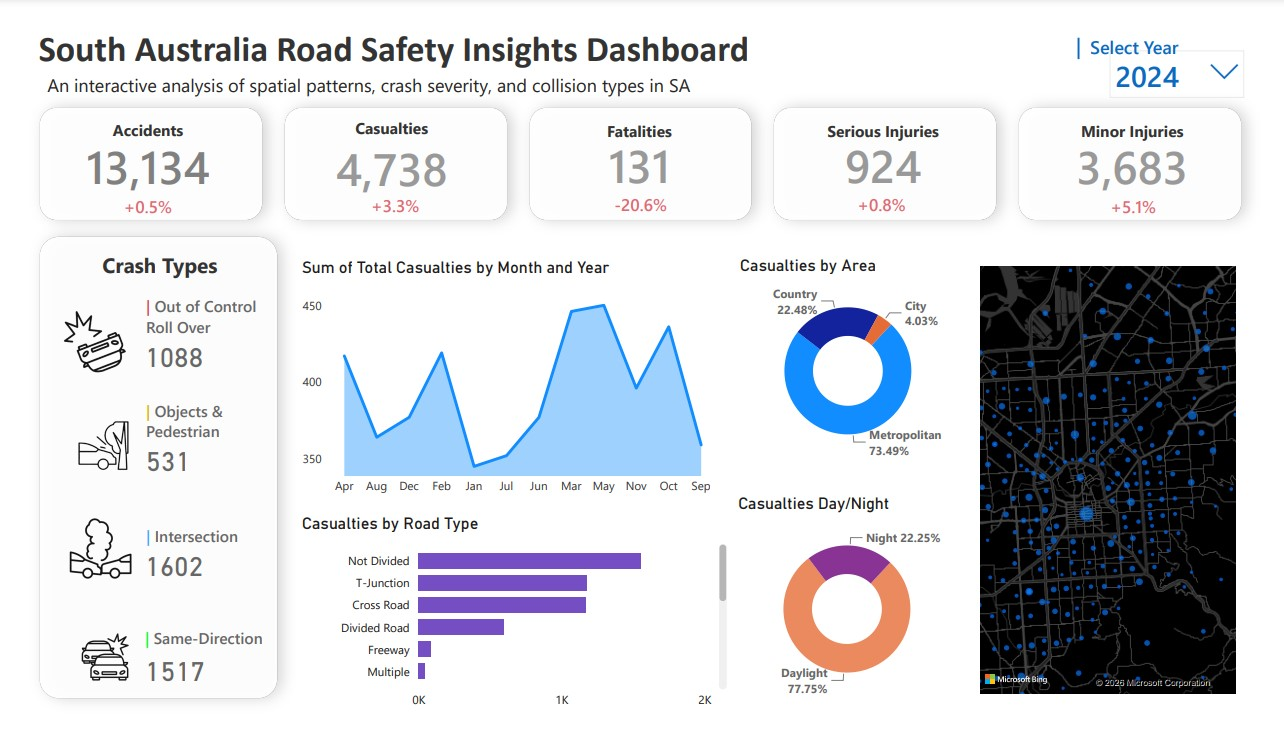

The dashboard page shown, as its layout file describes it:
{"tool":"powerbi","page":{"name":"Page 1","canvas":[1280,720],"ordinal":0},"visuals":[{"type":"group","id":"g1","title":"Group 2","box":[286.1,100.1,195,119.4],"z":0,"group":"g3"},{"type":"group","id":"g2","title":"Group 3","box":[286.1,100.1,195,119.4],"z":0,"group":"g1"},{"type":"cardVisual","title":"Casualties","fields":{"Data":["bb05bb0d-f9a4-4638-8992-81d5fb9.CY Casualties"]},"box":[286.1,100.1,195,87.5],"z":0,"group":"g2"},{"type":"cardVisual","title":"Accidents","fields":{"Data":["bb05bb0d-f9a4-4638-8992-81d5fb9.Total CY Accidents"]},"box":[35.2,101.9,194,84],"z":0,"group":"g4"},{"type":"cardVisual","title":" Minor Injuries","fields":{"Data":["bb05bb0d-f9a4-4638-8992-81d5fb9.CY Casualties"]},"box":[1050,102.5,195.3,82.7],"z":0,"group":"g7"},{"type":"cardVisual","title":" Serious Injuries","fields":{"Data":["bb05bb0d-f9a4-4638-8992-81d5fb9.CY Casualties"]},"box":[792,102.9,197.3,82],"z":0,"group":"g6"},{"type":"cardVisual","title":"Fatalities","fields":{"Data":["bb05bb0d-f9a4-4638-8992-81d5fb9.CY Casualties"]},"box":[541.4,103.1,196.2,81.5],"z":0,"group":"g5"},{"type":"shape","title":"LEFT Bottom","box":[0,202.9,285.7,515.7],"z":0},{"type":"cardVisual","fields":{"Data":["bb05bb0d-f9a4-4638-8992-81d5fb9.YoY Casualties"]},"box":[835.4,156,131.5,65.1],"z":1000,"group":"g6"},{"type":"cardVisual","fields":{"Data":["bb05bb0d-f9a4-4638-8992-81d5fb9.YoY Casualties"]},"box":[584.8,156.2,130.3,63.9],"z":1000,"group":"g5"},{"type":"cardVisual","fields":{"Data":["bb05bb0d-f9a4-4638-8992-81d5fb9.YoY Casualties"]},"box":[333.2,159.2,131.5,60.3],"z":1000,"group":"g2"},{"type":"cardVisual","fields":{"Data":["bb05bb0d-f9a4-4638-8992-81d5fb9.YoY Casualties"]},"box":[1095.8,159.2,131.5,60.3],"z":1000,"group":"g7"},{"type":"cardVisual","fields":{"Data":["bb05bb0d-f9a4-4638-8992-81d5fb9.YoY Accidents"]},"box":[78.6,159.8,131.5,61.5],"z":1000,"group":"g4"},{"type":"cardVisual","title":"vasdv","fields":{"Data":["bb05bb0d-f9a4-4638-8992-81d5fb9.CY Casualties"],"Rows":["bb05bb0d-f9a4-4638-8992-81d5fb9.Crash Type (groups)"]},"box":[97.1,267.1,378.6,434.3],"z":1000},{"type":"shape","title":"Card 1","box":[0,70,270.2,156.8],"z":2000},{"type":"shape","title":"Card 3","box":[504.9,70,270.2,156.8],"z":3000},{"type":"image","box":[24.3,273.4,105.7,117.1],"z":3000,"group":"g8"},{"type":"shape","title":"Card 2","box":[252.4,70,270.2,156.8],"z":4000},{"type":"shape","title":"Card 4","box":[757.3,70,270.2,156.8],"z":5000},{"type":"image","box":[42.9,383.4,91.4,110],"z":5000,"group":"g8"},{"type":"shape","title":"Card 5","box":[1009.8,70,270.2,156.8],"z":6000},{"type":"image","box":[31.4,469.1,98.6,151.4],"z":7000,"group":"g8"},{"type":"slicer","title":"Select Year","fields":{"Values":["Calendar.Year"]},"box":[1117.1,24.3,152.9,67.1],"z":8000},{"type":"image","box":[50,596.3,77.1,122.9],"z":9000,"group":"g8"},{"type":"group","id":"g3","title":"Group 1","box":[286.1,100.1,195,119.4],"z":10000},{"type":"group","id":"g4","title":"Group 1","box":[35.2,101.9,194,119.4],"z":11000},{"type":"group","id":"g5","title":"Group 3","box":[541.4,103.1,196.2,117],"z":12000},{"type":"group","id":"g6","title":"Group 3","box":[792,102.9,197.3,118.2],"z":13000},{"type":"group","id":"g7","title":"Group 3","box":[1050,102.5,195.3,117],"z":14000},{"type":"textbox","box":[14.3,1.4,748.6,67.1],"z":15000},{"type":"textbox","box":[80,232.9,165.7,68.6],"z":16000},{"type":"areaChart","fields":{"Category":["Calendar.Month"],"Y":["Sum(bb05bb0d-f9a4-4638-8992-81d5fb9.Total Casualties)"],"Series":["Calendar.Date.Variation.Date Hierarchy.Year"]},"box":[285.7,244.7,435.7,252.9],"z":17000},{"type":"donutChart","title":"Casualties by Area","fields":{"Y":["bb05bb0d-f9a4-4638-8992-81d5fb9.CY Casualties"],"Category":["bb05bb0d-f9a4-4638-8992-81d5fb9.Stats Area.2"]},"box":[737.5,241.9,232.5,220],"z":18000},{"type":"donutChart","title":"Casualties Day/Night","fields":{"Y":["bb05bb0d-f9a4-4638-8992-81d5fb9.CY Casualties"],"Category":["bb05bb0d-f9a4-4638-8992-81d5fb9.DayNight"]},"box":[736.2,488.1,233.8,218.8],"z":19000},{"type":"barChart","title":"Casualties by Road Type","fields":{"Y":["bb05bb0d-f9a4-4638-8992-81d5fb9.CY Casualties"],"Category":["bb05bb0d-f9a4-4638-8992-81d5fb9.Position Type"]},"box":[285.7,507.6,448.6,211.4],"z":20000},{"type":"map","title":"Casualties by Location","fields":{"Size":["bb05bb0d-f9a4-4638-8992-81d5fb9.CY Casualties"],"Category":["bb05bb0d-f9a4-4638-8992-81d5fb9.Full_Address"]},"box":[985.7,230.4,272.9,468.6],"z":21000},{"type":"textbox","box":[124.7,278.6,240,55.7],"z":22000},{"type":"textbox","box":[124.7,387.1,238.6,57.1],"z":23000},{"type":"textbox","box":[124.7,515.7,125.7,55.7],"z":24000},{"type":"textbox","box":[124.3,621.4,145.7,55.7],"z":25000},{"type":"group","id":"g8","title":"Group 4","box":[24.3,273.4,110,445.7],"z":26000},{"type":"textbox","box":[1098.6,10,115.7,44.3],"z":27000},{"type":"shape","box":[974.2,18.3,235.8,21.7],"z":28000},{"type":"textbox","box":[22.9,48.6,700,40],"z":29000}]}

Visuals, with their boxes in screenshot pixels (x1, y1, x2, y2), scaled from the page's 1280x720 canvas onto the 1284x735 screenshot:
"Group 2" group: (287,102,483,224)
"Group 3" group: (287,102,483,224)
"Casualties" cardVisual: (287,102,483,192)
"Accidents" cardVisual: (35,104,230,190)
" Minor Injuries" cardVisual: (1053,105,1249,189)
" Serious Injuries" cardVisual: (794,105,992,189)
"Fatalities" cardVisual: (543,105,740,188)
"LEFT Bottom" shape: (0,207,287,734)
cardVisual - bb05bb0d-f9a4-4638-8992-81d5fb9.YoY Casualties: (838,159,970,226)
cardVisual - bb05bb0d-f9a4-4638-8992-81d5fb9.YoY Casualties: (587,159,717,225)
cardVisual - bb05bb0d-f9a4-4638-8992-81d5fb9.YoY Casualties: (334,163,466,224)
cardVisual - bb05bb0d-f9a4-4638-8992-81d5fb9.YoY Casualties: (1099,163,1231,224)
cardVisual - bb05bb0d-f9a4-4638-8992-81d5fb9.YoY Accidents: (79,163,211,226)
"vasdv" cardVisual: (97,273,477,716)
"Card 1" shape: (0,71,271,232)
"Card 3" shape: (506,71,778,232)
image: (24,279,130,399)
"Card 2" shape: (253,71,524,232)
"Card 4" shape: (760,71,1031,232)
image: (43,391,135,504)
"Card 5" shape: (1013,71,1283,232)
image: (31,479,130,633)
"Select Year" slicer: (1121,25,1274,93)
image: (50,609,127,734)
"Group 1" group: (287,102,483,224)
"Group 1" group: (35,104,230,226)
"Group 3" group: (543,105,740,225)
"Group 3" group: (794,105,992,226)
"Group 3" group: (1053,105,1249,224)
textbox: (14,1,765,70)
textbox: (80,238,246,308)
areaChart - Calendar.Month x Sum(bb05bb0d-f9a4-4638-8992-81d5fb9.Total Casualties): (287,250,724,508)
"Casualties by Area" donutChart: (740,247,973,472)
"Casualties Day/Night" donutChart: (739,498,973,722)
"Casualties by Road Type" barChart: (287,518,737,734)
"Casualties by Location" map: (989,235,1263,714)
textbox: (125,284,366,341)
textbox: (125,395,364,453)
textbox: (125,526,251,583)
textbox: (125,634,271,691)
"Group 4" group: (24,279,135,734)
textbox: (1102,10,1218,55)
shape: (977,19,1214,41)
textbox: (23,50,725,90)
